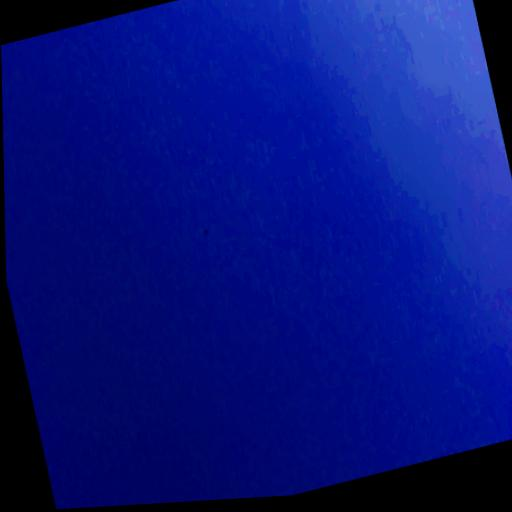drones: (201, 226, 210, 238)
